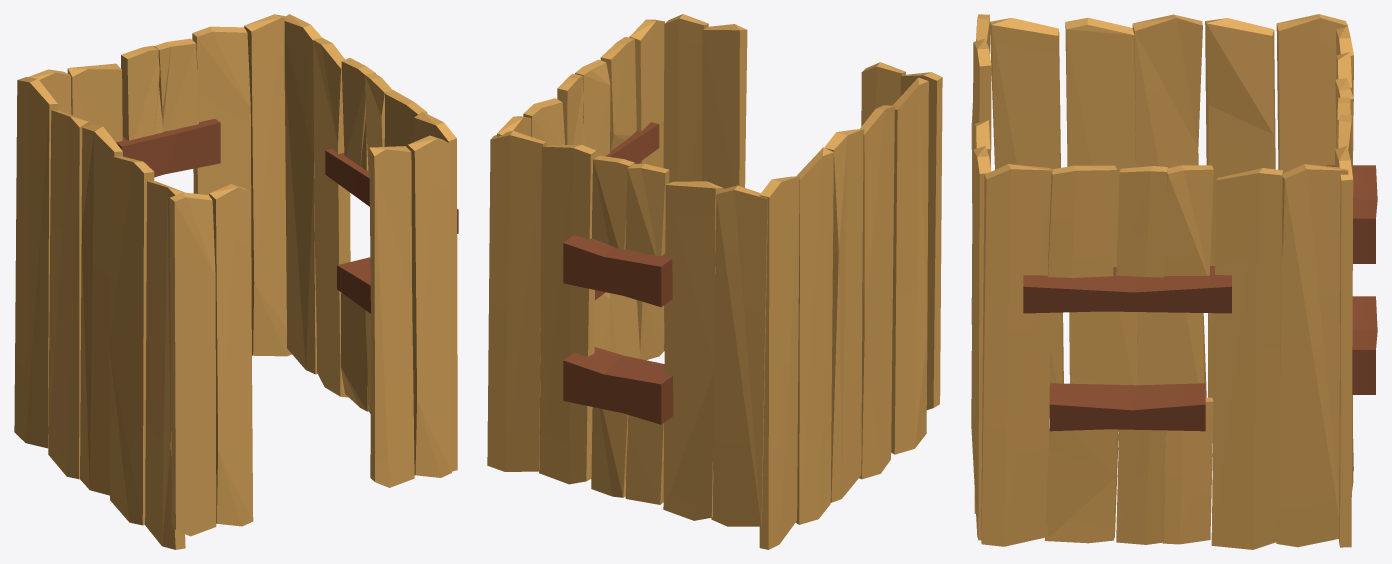
The model's file is Bottom house 1.fbx.
3 renders of one model, left to right at view 1: azimuth 30°, elevation 25°; view 2: azimuth 150°, elevation 25°; view 3: azimuth 270°, elevation 25°, orthographic. The views are drawn at different scales.
Parts seen in each view (by area): view 1: Bottom house 1; view 2: Bottom house 1; view 3: Bottom house 1.
Part boxes in pixels (x1=…): Bottom house 1: x1=14, y1=14, x2=458, y2=549; Bottom house 1: x1=487, y1=14, x2=942, y2=549; Bottom house 1: x1=971, y1=14, x2=1377, y2=549.
Size of the model in its own units: 180 by 206 by 186.
